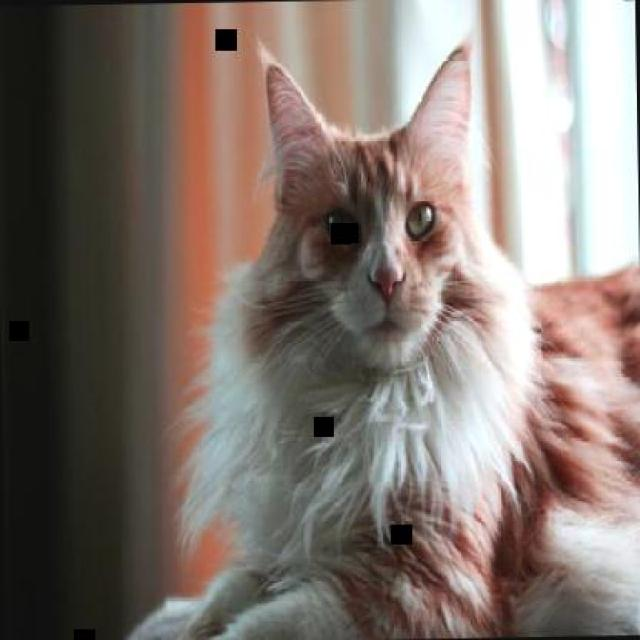cat: (151, 31, 638, 638)
